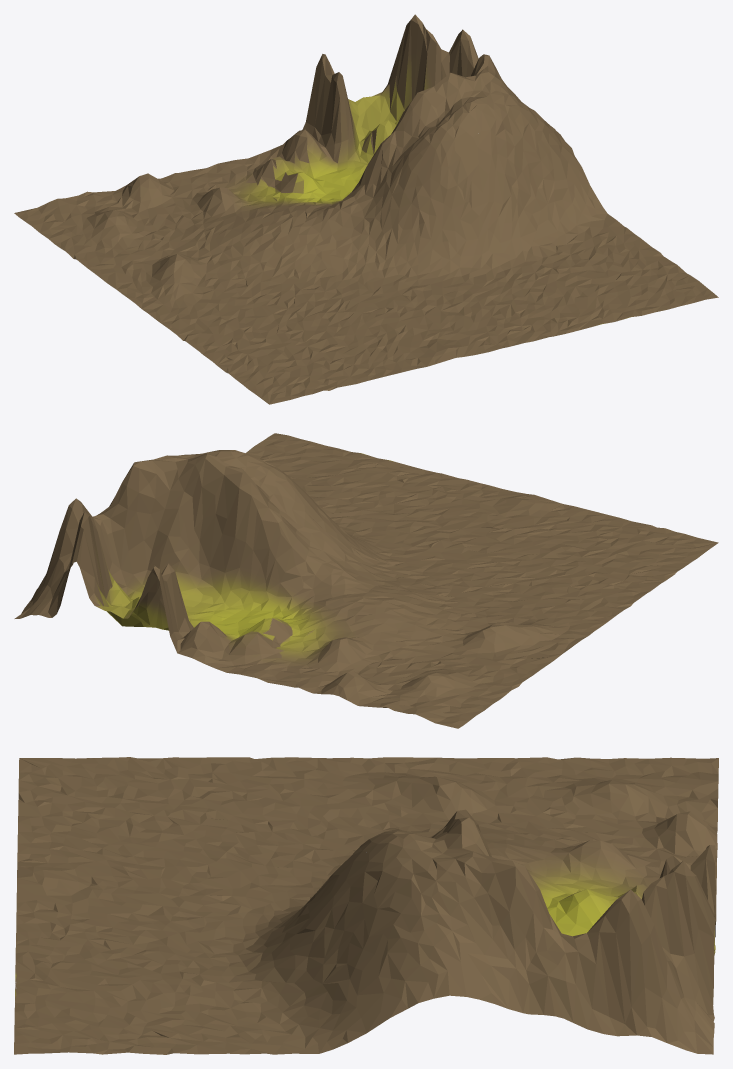
File: LVL1CH3.fbx
The picture shows the model from 3 angles, top to bottom: view 1: azimuth 30°, elevation 25°; view 2: azimuth 150°, elevation 25°; view 3: azimuth 270°, elevation 25°; orthographic projection. The views are drawn at different scales.
Visible parts, largest first — view 1: LVL1; view 2: LVL1; view 3: LVL1.
Part boxes in pixels (bbox=[...]): LVL1: bbox=[14, 14, 718, 404]; LVL1: bbox=[14, 433, 718, 728]; LVL1: bbox=[14, 757, 718, 1054].
Size of the model in its own units: 20152 by 5403 by 20150.
1 material, 1 textured.
